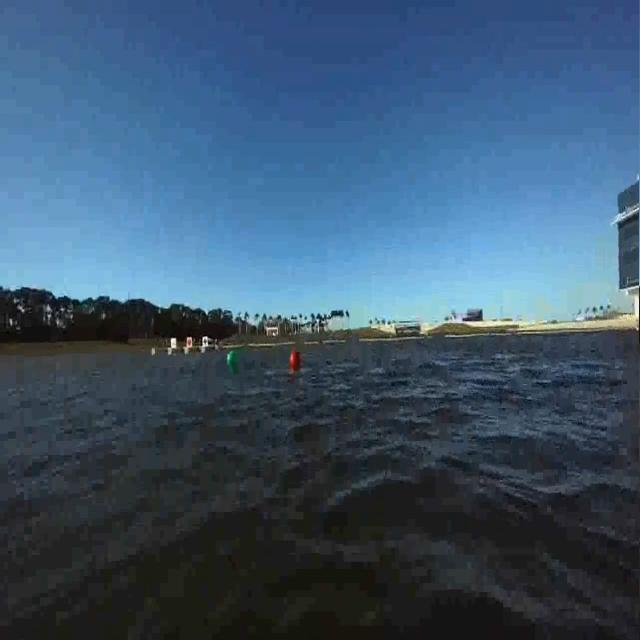green-buoy: (227, 351, 238, 366)
red-buoy: (290, 350, 300, 370)
